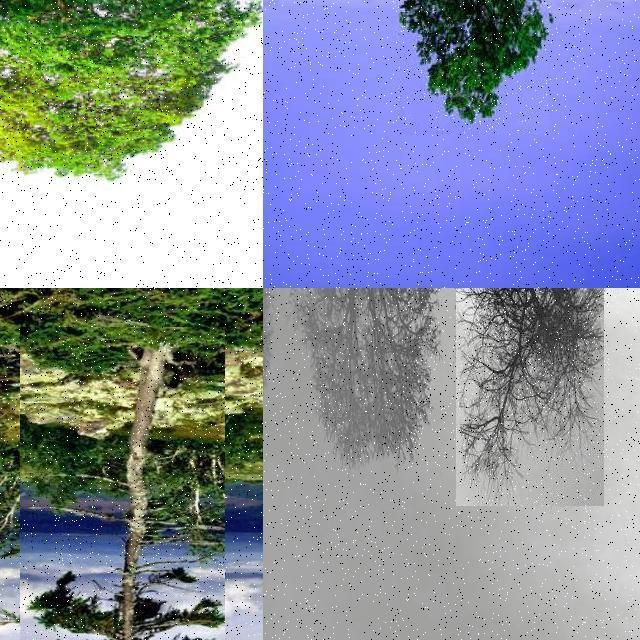tree: (20, 327, 225, 640), (0, 1, 264, 200), (456, 288, 604, 506), (292, 288, 452, 472), (399, 0, 549, 134), (582, 288, 640, 552), (584, 288, 640, 526)
